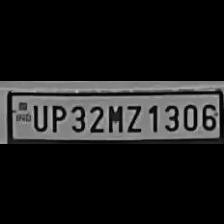0: (180, 100, 198, 130)
1: (144, 100, 160, 132)
2: (86, 101, 104, 133)
3: (66, 100, 86, 132), (160, 101, 180, 131)
6: (198, 100, 218, 130)
M: (103, 101, 123, 133)
P: (47, 100, 66, 132)
U: (29, 101, 48, 131)
Z: (124, 101, 142, 133)
